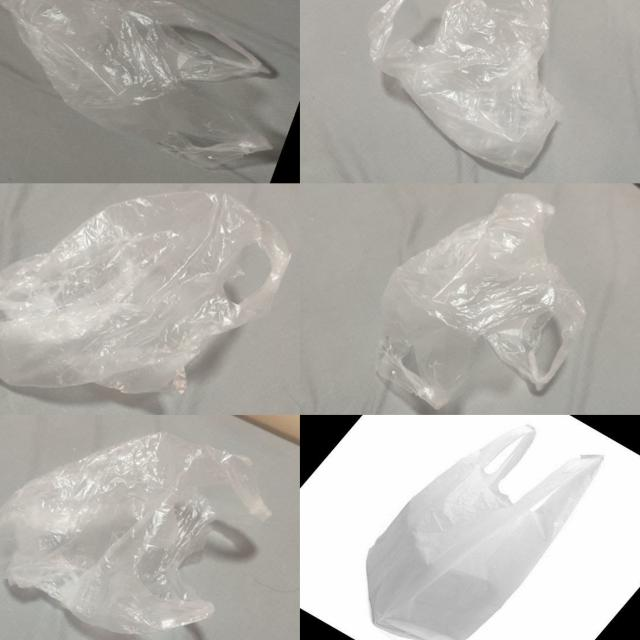plastik: (0, 191, 290, 392), (0, 432, 271, 634), (366, 425, 602, 640), (0, 0, 273, 169), (376, 193, 586, 409), (369, 0, 560, 172)
